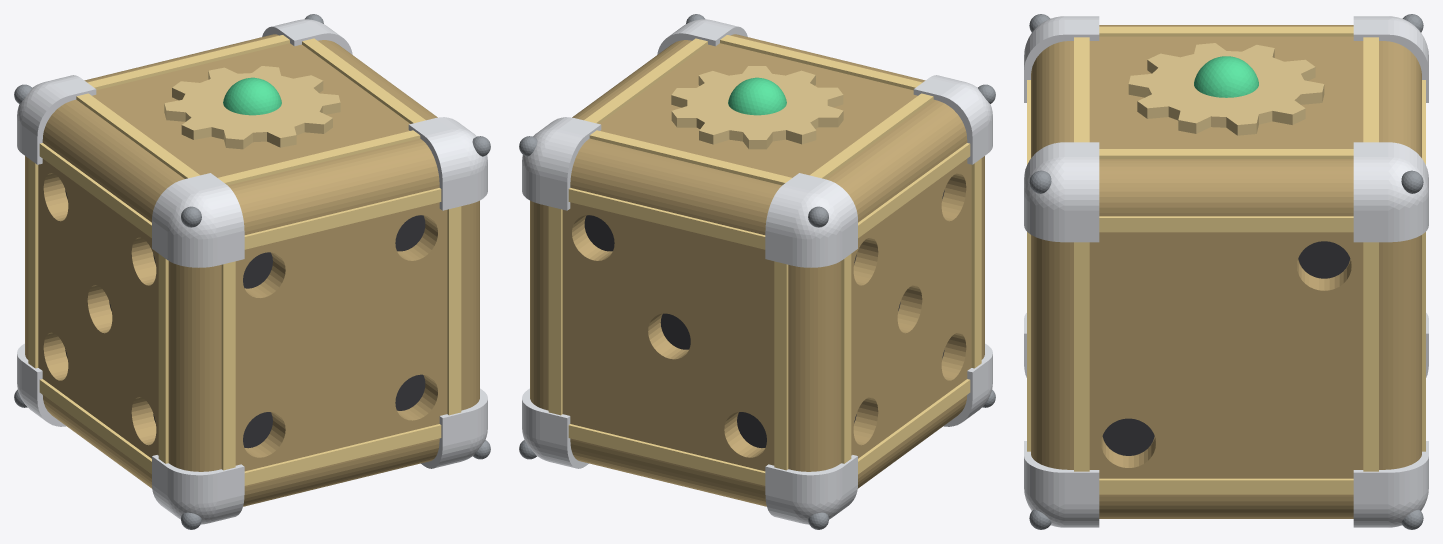
Rendered from die.glb.
The picture shows the model from 3 angles, left to right: view 1: azimuth 30°, elevation 25°; view 2: azimuth 150°, elevation 25°; view 3: azimuth 270°, elevation 25°; orthographic projection. The views are drawn at different scales.
Visible parts, largest first — view 1: die_body_0, face_frame_28, one_gear_1, face_frame_19, face_frame_3, corner_cap_31, corner_cap_29, corner_cap_39, corner_cap_35, corner_cap_37, one_gem_2, corner_cap_33 (+5 smaller); view 2: die_body_0, face_frame_23, one_gear_1, face_frame_19, face_frame_3, corner_cap_35, corner_cap_33, corner_cap_43, corner_cap_31, corner_cap_41, one_gem_2, corner_cap_29 (+4 smaller); view 3: die_body_0, face_frame_13, one_gear_1, face_frame_3, corner_cap_39, corner_cap_43, corner_cap_37, corner_cap_41, corner_cap_31, corner_cap_35, one_gem_2, pip_11 (+3 smaller).
Part boxes in pixels (bbox=[...]): die_body_0: bbox=[25, 34, 479, 506]; face_frame_28: bbox=[221, 188, 461, 485]; one_gear_1: bbox=[164, 66, 340, 149]; face_frame_19: bbox=[28, 143, 168, 474]; face_frame_3: bbox=[76, 35, 425, 185]; corner_cap_31: bbox=[152, 173, 244, 267]; corner_cap_29: bbox=[152, 455, 244, 524]; corner_cap_39: bbox=[408, 117, 487, 210]; corner_cap_35: bbox=[17, 75, 96, 164]; corner_cap_37: bbox=[421, 388, 487, 468]; one_gem_2: bbox=[223, 77, 281, 115]; corner_cap_33: bbox=[17, 343, 66, 426]; die_body_0: bbox=[530, 34, 984, 506]; face_frame_23: bbox=[548, 188, 788, 485]; one_gear_1: bbox=[671, 66, 843, 149]; face_frame_19: bbox=[841, 143, 981, 474]; face_frame_3: bbox=[584, 35, 933, 185]; corner_cap_35: bbox=[765, 173, 857, 267]; corner_cap_33: bbox=[765, 455, 857, 524]; corner_cap_43: bbox=[522, 117, 601, 210]; corner_cap_31: bbox=[913, 75, 992, 164]; corner_cap_41: bbox=[522, 388, 588, 468]; one_gem_2: bbox=[728, 77, 786, 115]; corner_cap_29: bbox=[943, 343, 992, 426]; die_body_0: bbox=[1031, 25, 1421, 518]; face_frame_13: bbox=[1074, 216, 1378, 494]; one_gear_1: bbox=[1128, 43, 1324, 135]; face_frame_3: bbox=[1074, 26, 1378, 159]; corner_cap_39: bbox=[1024, 142, 1099, 242]; corner_cap_43: bbox=[1353, 142, 1428, 242]; corner_cap_37: bbox=[1024, 441, 1099, 527]; corner_cap_41: bbox=[1353, 441, 1428, 527]; corner_cap_31: bbox=[1024, 16, 1099, 102]; corner_cap_35: bbox=[1353, 16, 1428, 102]; one_gem_2: bbox=[1194, 56, 1258, 97]; pip_11: bbox=[1102, 418, 1154, 455].
Size of the model in its own units: 0.3622 by 0.3911 by 0.3622.
